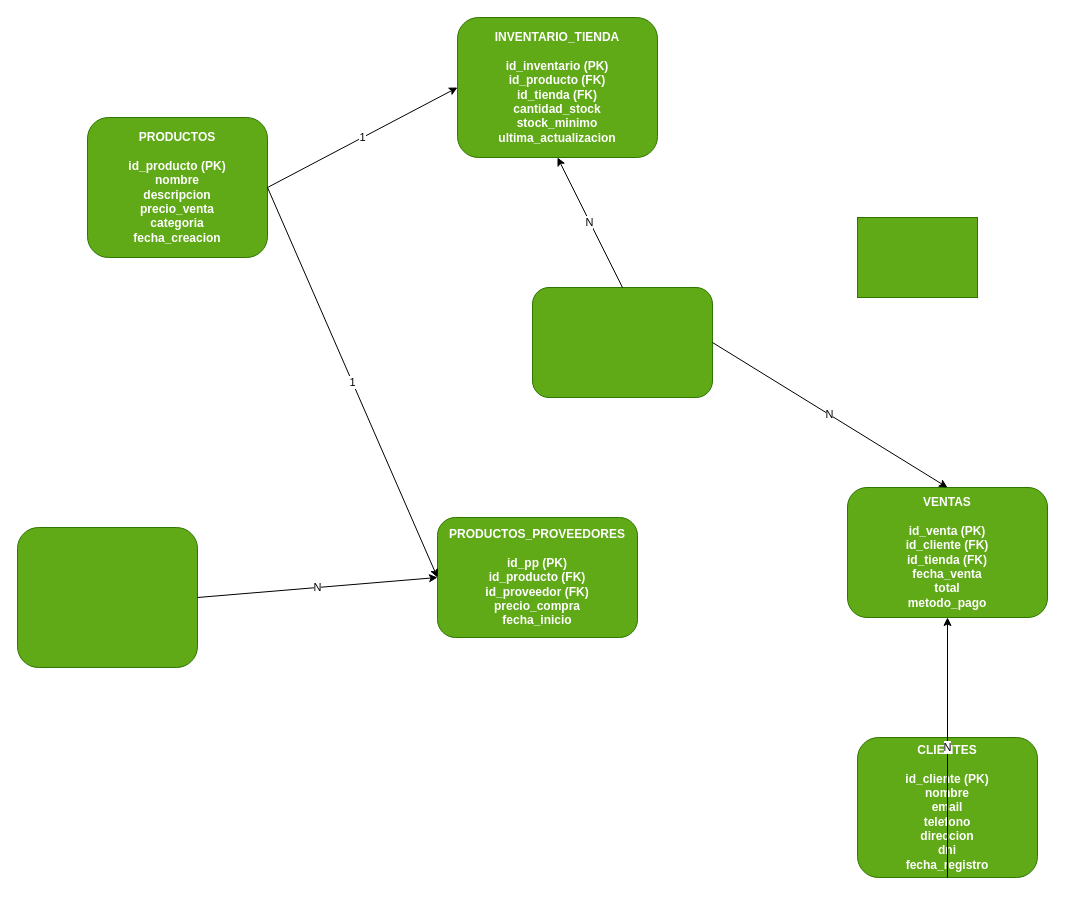
Some shapes in this 1065 by 903 pixel diagram are drawn without their labels. Here are the shapes that lost their labels. From the top down, the centre of each, then its label:
the point at 917,257: Leyenda: PK = Clave Primaria FK = Clave Foránea
the point at 622,342: TIENDA id_tienda (PK) nombre direccion telefono email
the point at 107,597: PROVEEDORES id_proveedor (PK) nombre email telefono direccion contacto
